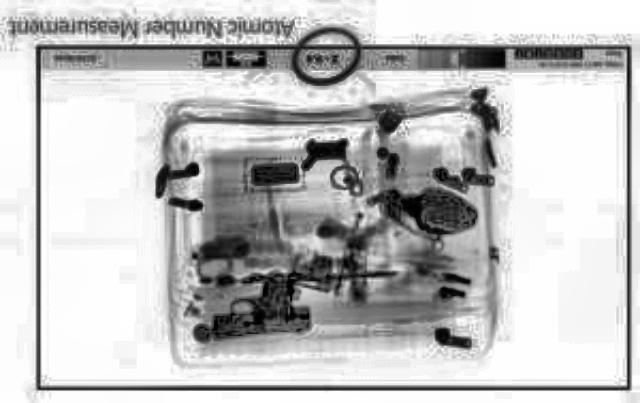Gun: (188, 268, 310, 340)
